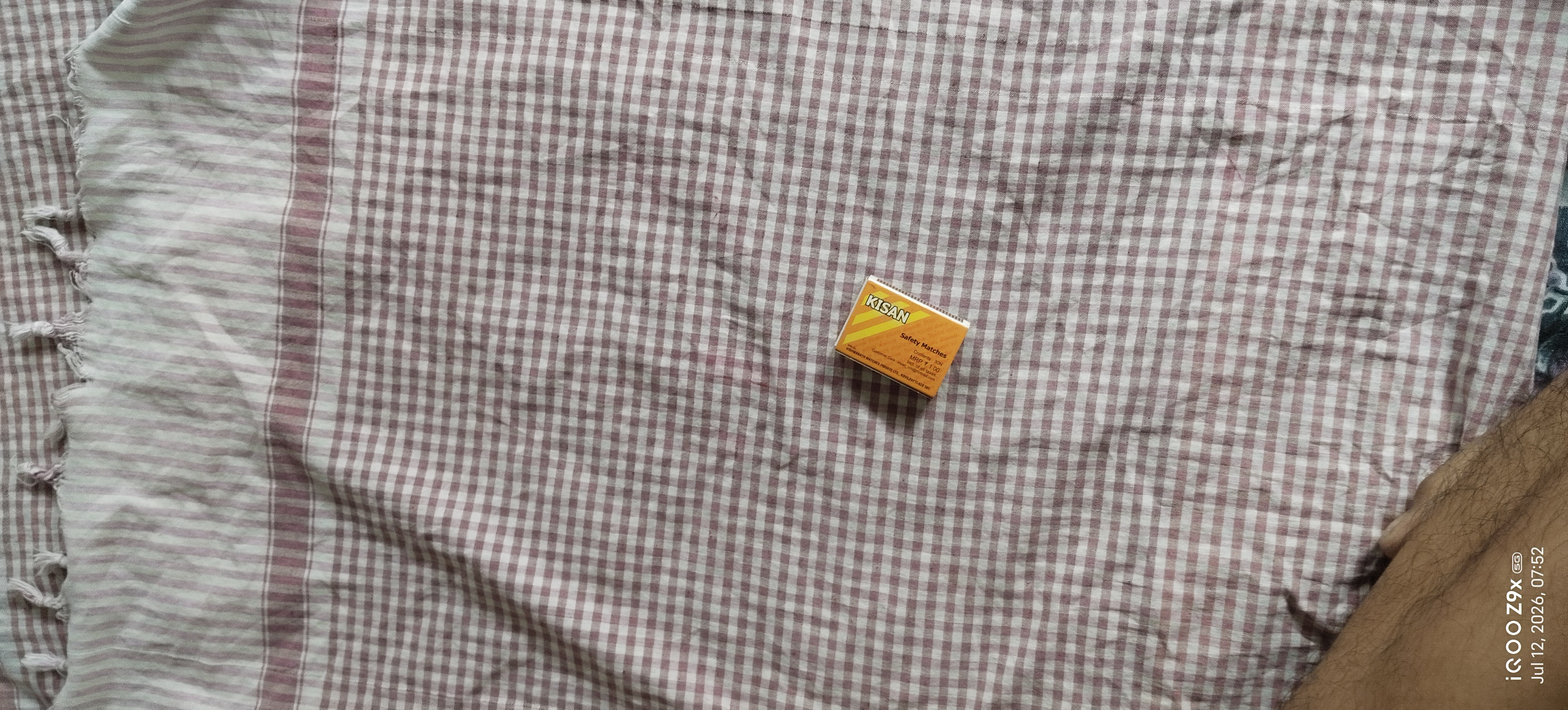matchbox: (812, 242, 1004, 436)
